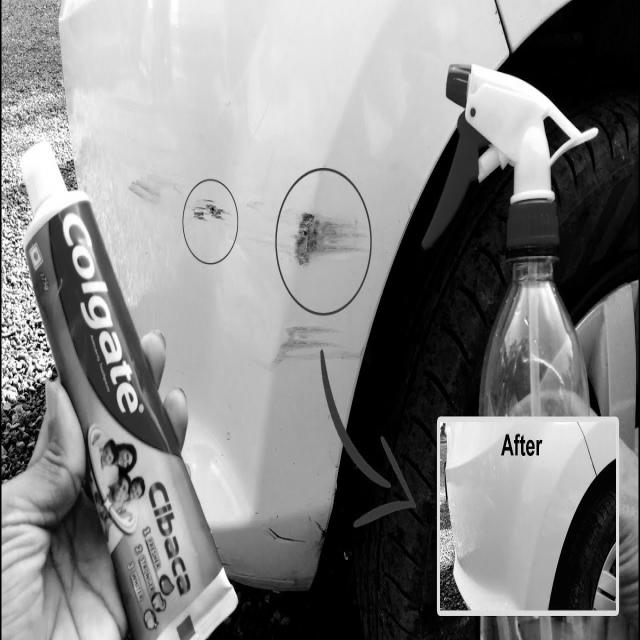scratch: (125, 172, 236, 225), (253, 321, 367, 372), (280, 209, 374, 270), (253, 511, 327, 560)
